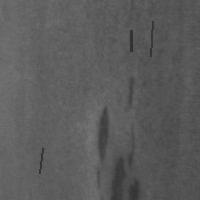inclusion: (94, 93, 140, 199), (92, 101, 112, 165), (119, 74, 139, 115), (148, 19, 154, 58), (37, 146, 44, 175), (129, 28, 133, 53)
